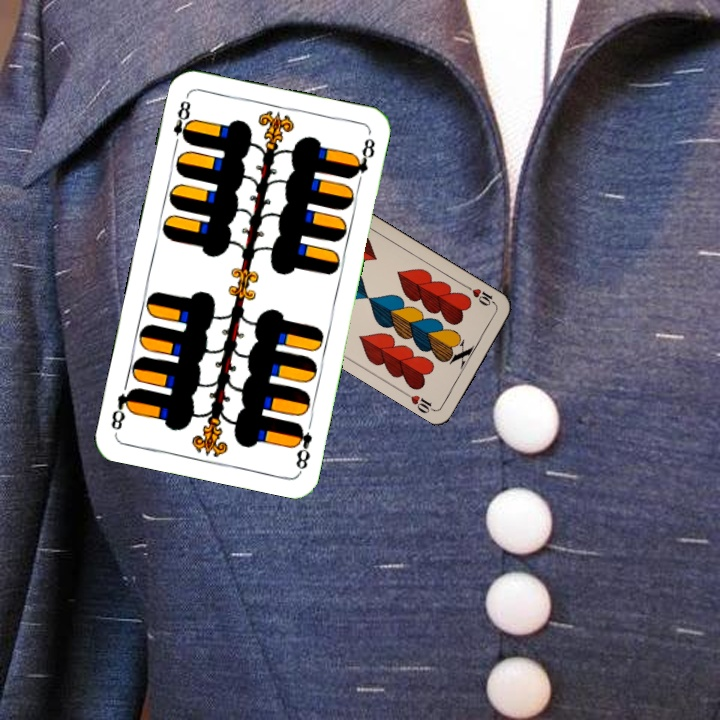E8: (169, 96, 195, 151), (289, 419, 315, 474)
H10: (463, 282, 499, 309)
